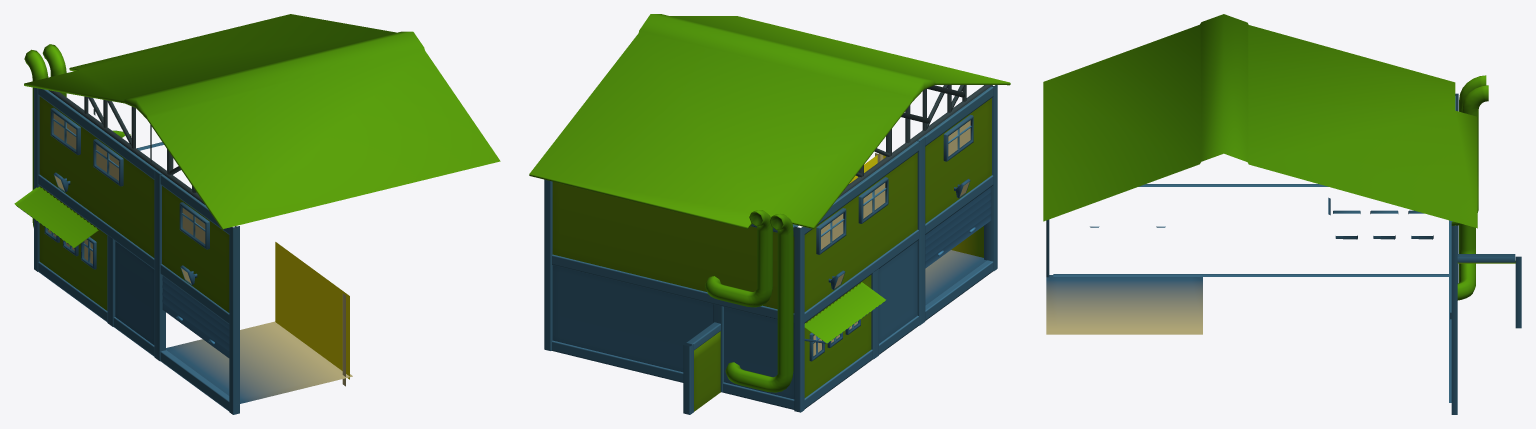
File: Warehouse03Night.glb
3 views of the same model, side by side, from view 1: azimuth 30°, elevation 25°; view 2: azimuth 150°, elevation 25°; view 3: azimuth 270°, elevation 25° (orthographic). The views are drawn at different scales.
Parts seen in each view (by area): view 1: Warehouse03Night; view 2: Warehouse03Night; view 3: Warehouse03Night.
Boxes of the visible parts, bbox=[...] form: Warehouse03Night: bbox=[14, 14, 500, 414]; Warehouse03Night: bbox=[529, 14, 1010, 414]; Warehouse03Night: bbox=[1043, 14, 1521, 414].
Size of the model in its own units: 20.21 by 16.47 by 27.21.
Materials: 4 (3 with a texture image).
